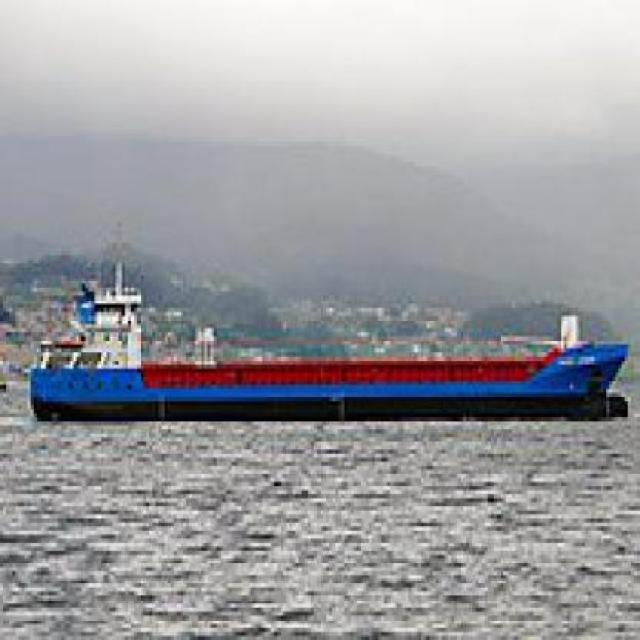container: (22, 228, 638, 439)
